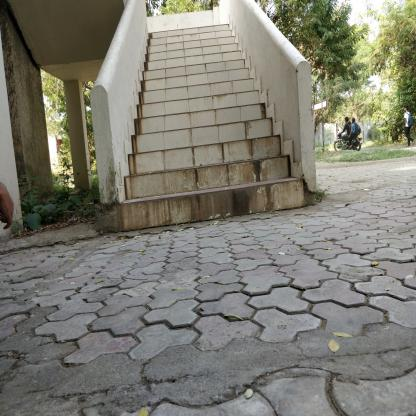stairs: (151, 24, 231, 238)
